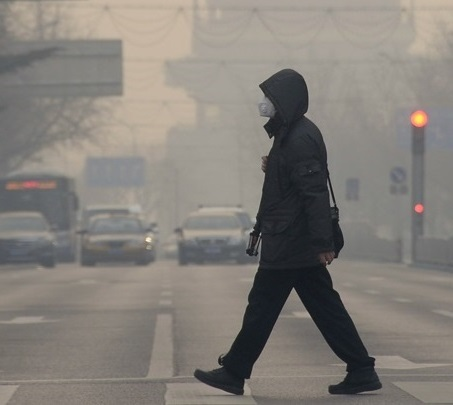person: (191, 65, 383, 398)
